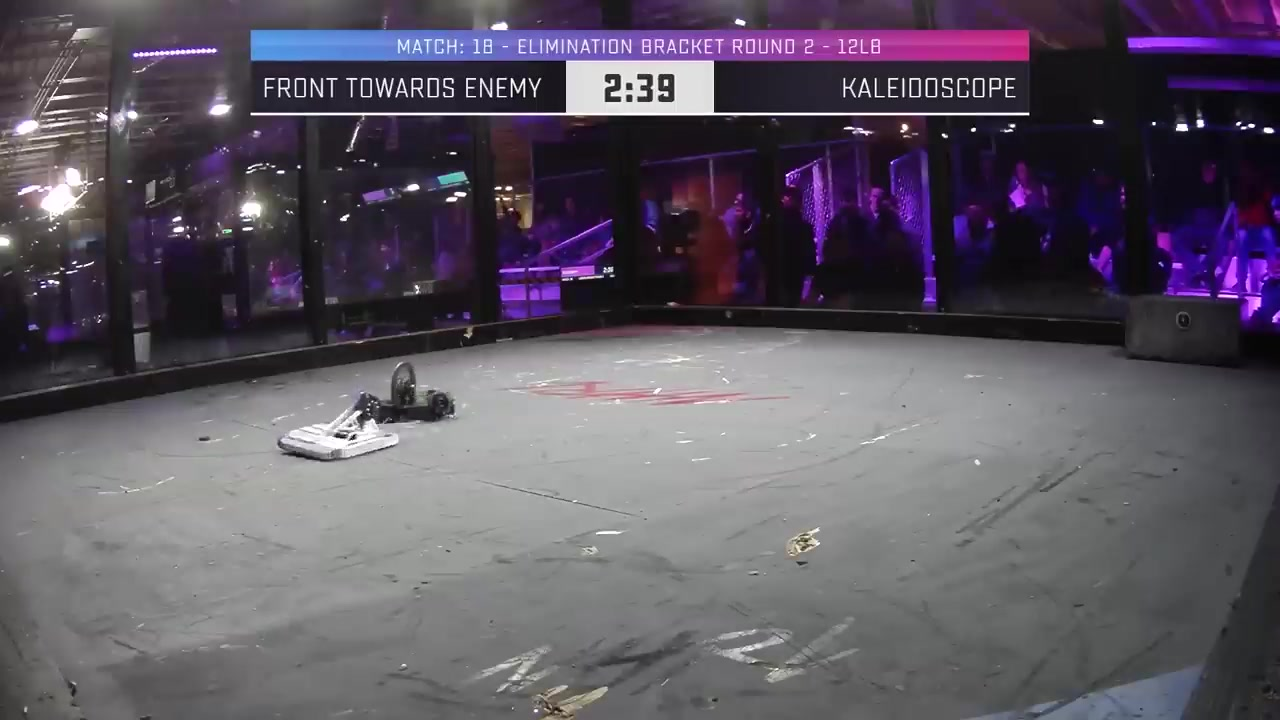combatbot: (277, 415, 404, 461), (336, 385, 458, 422)
housebot: (1122, 296, 1248, 369)
